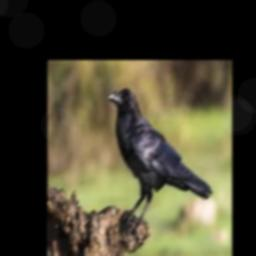Crow: (107, 87, 213, 231)
